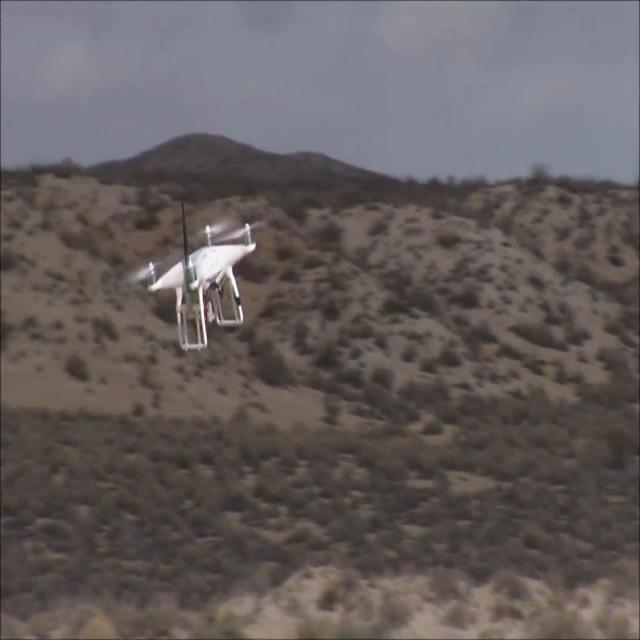drone: (124, 200, 266, 350)
